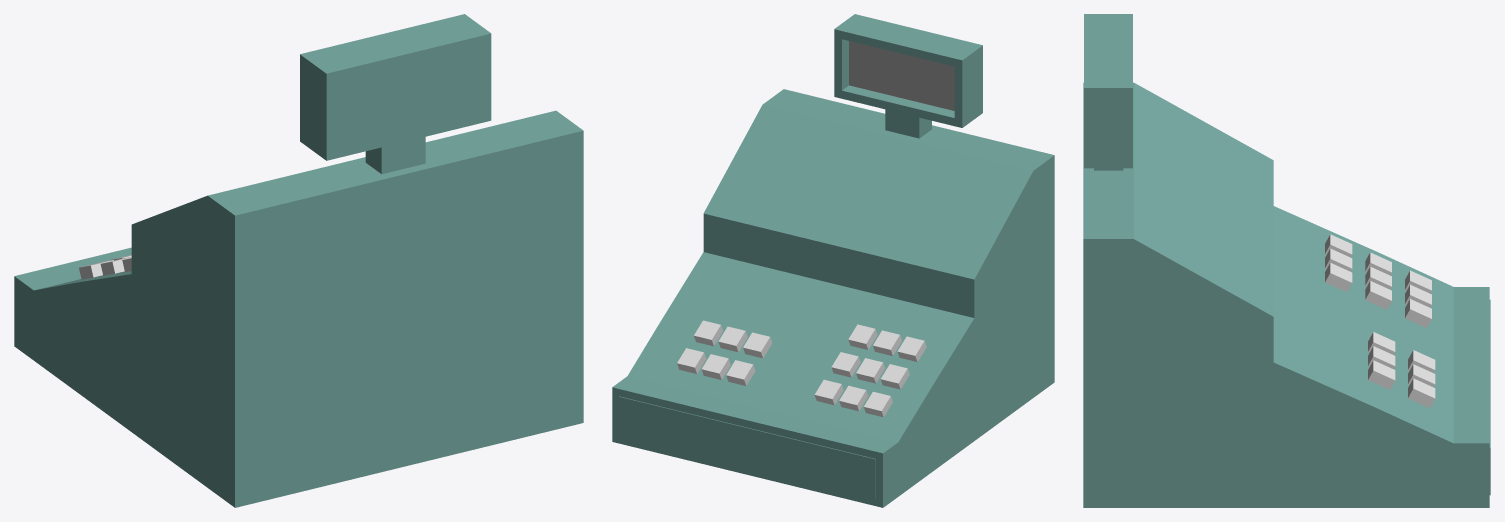
Rendered from caja_registradora.fbx.
3 renders of one model, left to right at view 1: azimuth 30°, elevation 25°; view 2: azimuth 150°, elevation 25°; view 3: azimuth 270°, elevation 25°, orthographic. The views are drawn at different scales.
Visible parts, largest first — view 1: Caja_regustradira, botones_caja; view 2: Caja_regustradira, Caja_regustradira_cajon, botones_caja, botones_caja.001; view 3: Caja_regustradira, botones_caja, botones_caja.001.
Part boxes in pixels (x1=…): Caja_regustradira: x1=14, y1=14, x2=583, y2=507; botones_caja: x1=79, y1=255, x2=131, y2=279; Caja_regustradira: x1=612, y1=14, x2=1054, y2=507; Caja_regustradira_cajon: x1=618, y1=396, x2=875, y2=498; botones_caja: x1=814, y1=324, x2=926, y2=417; botones_caja.001: x1=677, y1=320, x2=772, y2=385; Caja_regustradira: x1=1083, y1=14, x2=1489, y2=507; botones_caja: x1=1325, y1=234, x2=1431, y2=327; botones_caja.001: x1=1368, y1=332, x2=1435, y2=408.
Size of the model in its own units: 311 by 351 by 342.
